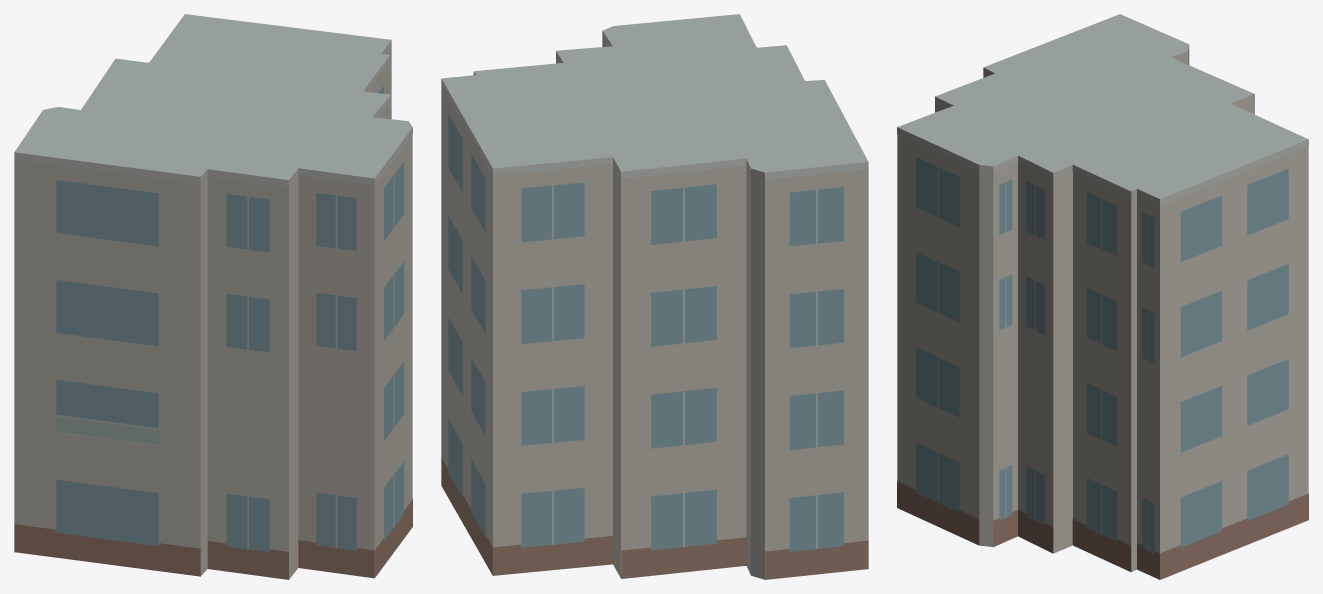
Rendered from survey-upis-32514487.glb.
3 views of the same model, side by side, from view 1: azimuth 30°, elevation 25°; view 2: azimuth 150°, elevation 25°; view 3: azimuth 270°, elevation 25° (orthographic). The views are drawn at different scales.
Visible parts, largest first — view 1: survey-upis-32514487.tmp; view 2: survey-upis-32514487.tmp; view 3: survey-upis-32514487.tmp.
Part boxes in pixels (x1,y1,x2,y2): survey-upis-32514487.tmp: (14,14,412,579); survey-upis-32514487.tmp: (441,14,868,579); survey-upis-32514487.tmp: (897,14,1308,579).
Bounding box in the file's own units: 14.4 × 13.8 × 13.53.
